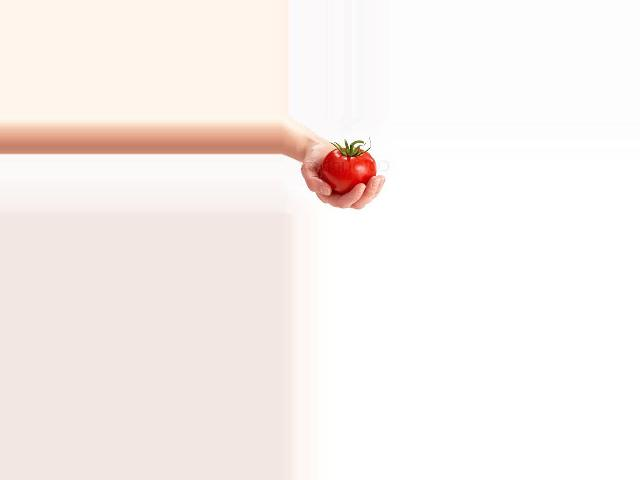tomato: (322, 147, 376, 194)
